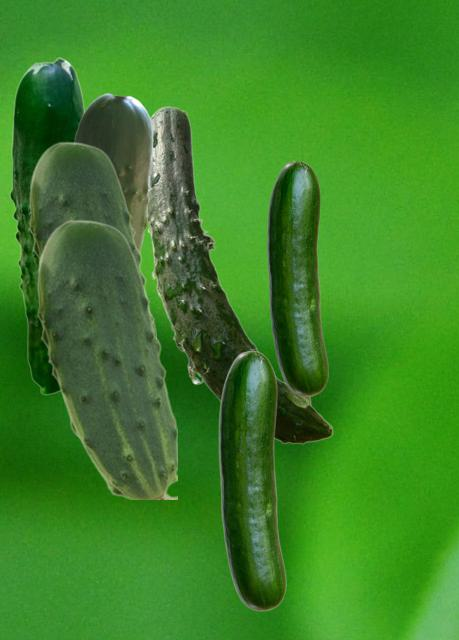cucumber: (146, 106, 332, 443), (37, 219, 176, 498), (9, 57, 84, 394), (29, 141, 155, 332), (218, 350, 285, 610), (267, 161, 327, 395), (73, 93, 152, 254)
